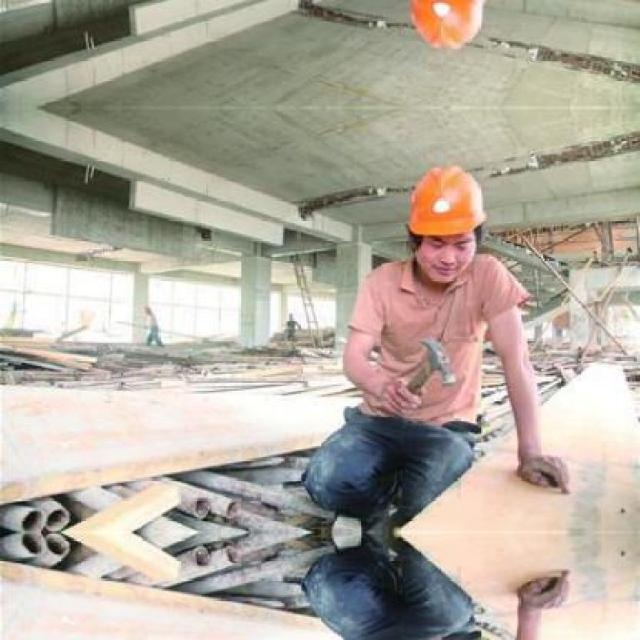helmet: (401, 154, 494, 283), (402, 0, 496, 60)
